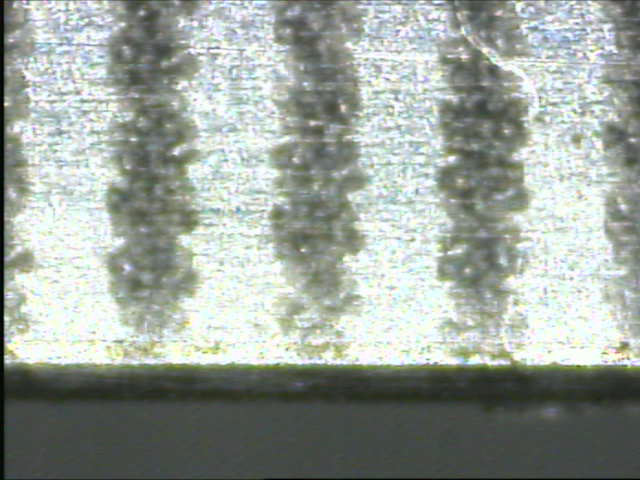line: (264, 1, 369, 361), (102, 1, 202, 366), (435, 1, 529, 362)
